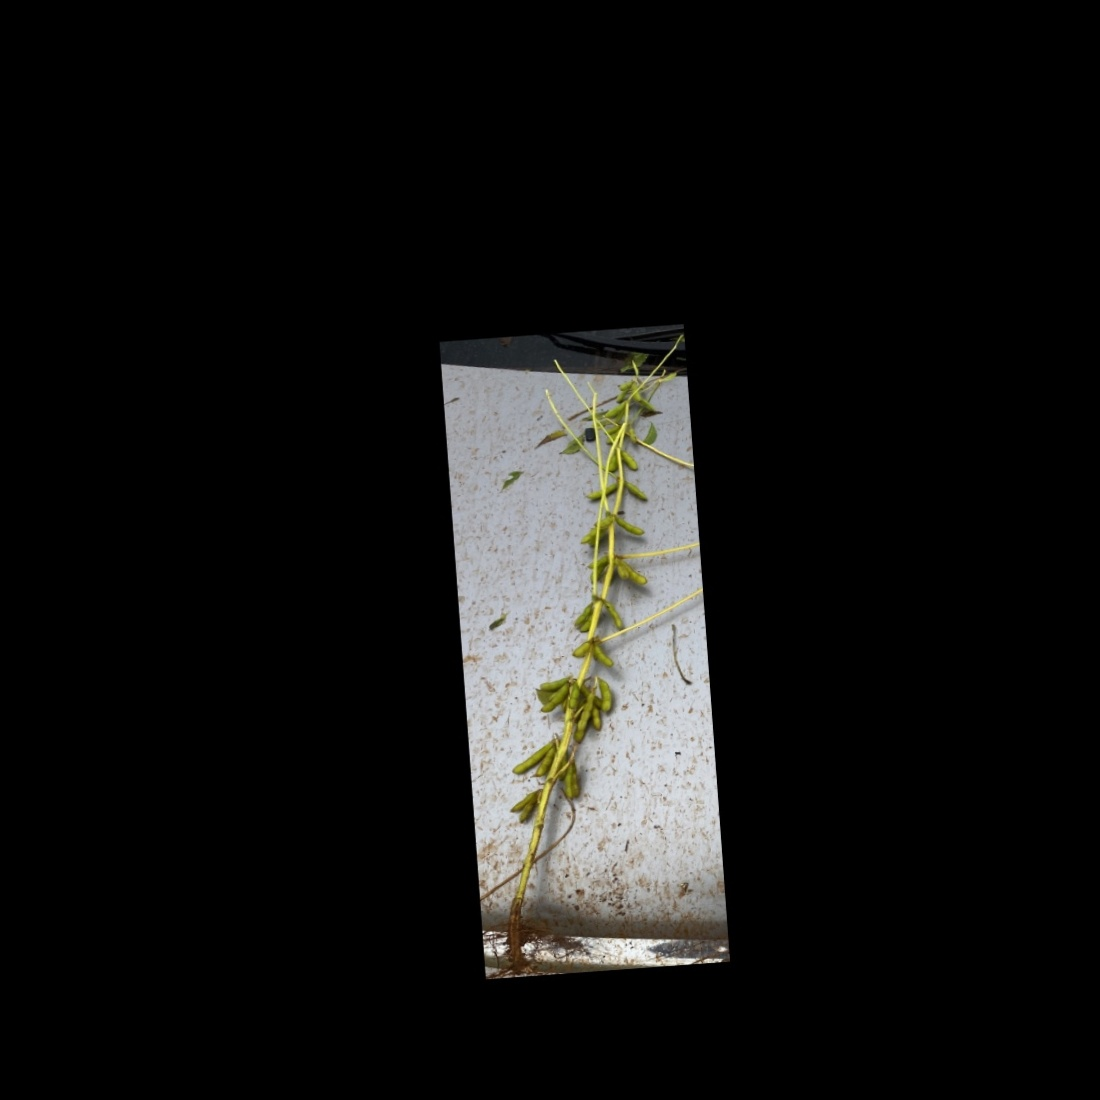pod: (613, 512, 647, 540), (582, 479, 623, 502), (602, 598, 626, 633), (621, 476, 648, 505), (620, 446, 646, 474), (590, 639, 613, 669), (597, 680, 618, 712), (563, 682, 585, 712), (575, 613, 602, 636)
soy: (459, 357, 716, 913)
